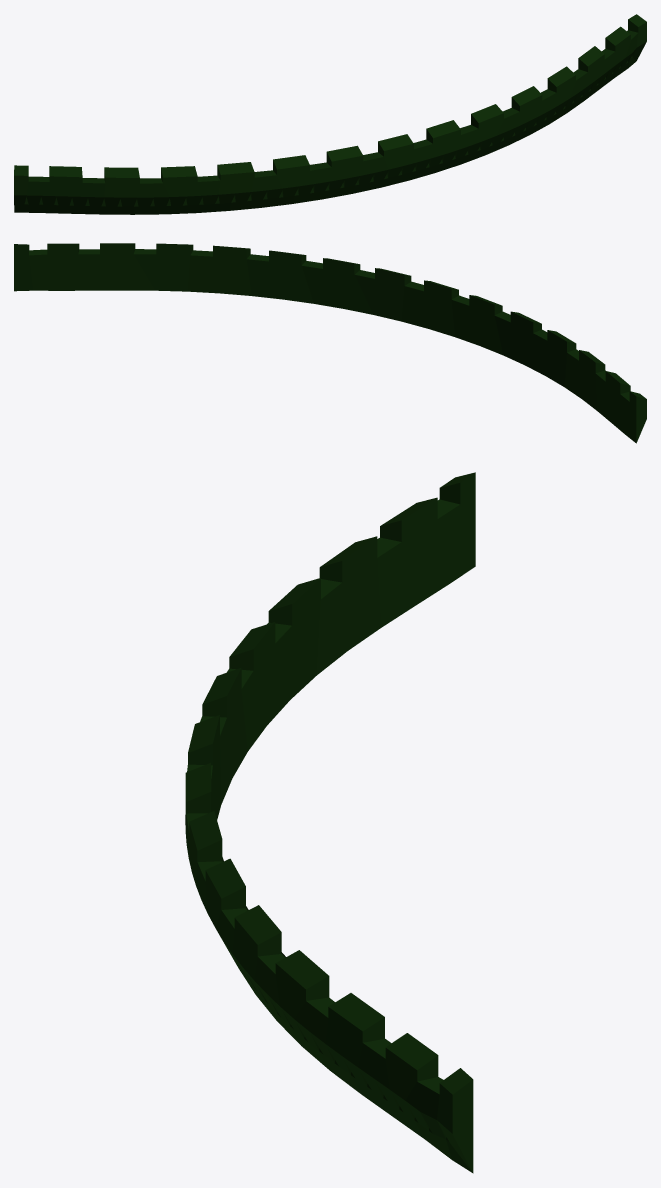
Rendered from wall-top-6.fbx.
The picture shows the model from 3 angles, top to bottom: view 1: azimuth 30°, elevation 25°; view 2: azimuth 150°, elevation 25°; view 3: azimuth 270°, elevation 25°; orthographic projection. The views are drawn at different scales.
Visible parts, largest first — view 1: wall-top-6; view 2: wall-top-6; view 3: wall-top-6.
Boxes of the visible parts, x1,y1,x2,y2 form: wall-top-6: (14, 14, 646, 214); wall-top-6: (14, 243, 646, 443); wall-top-6: (185, 472, 475, 1173).
Bounding box in the file's own units: 23.67 × 1.69 × 4.7.
